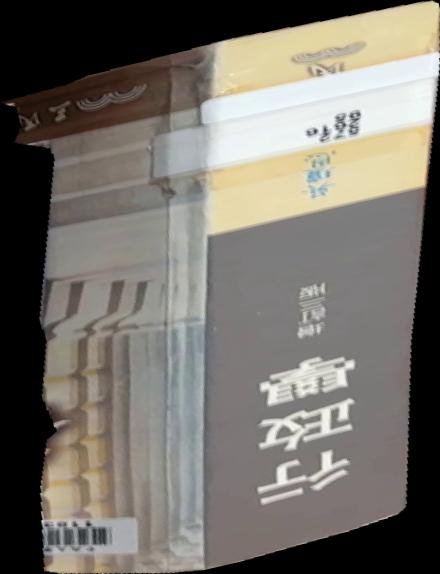reverse: (1, 1, 440, 574)
